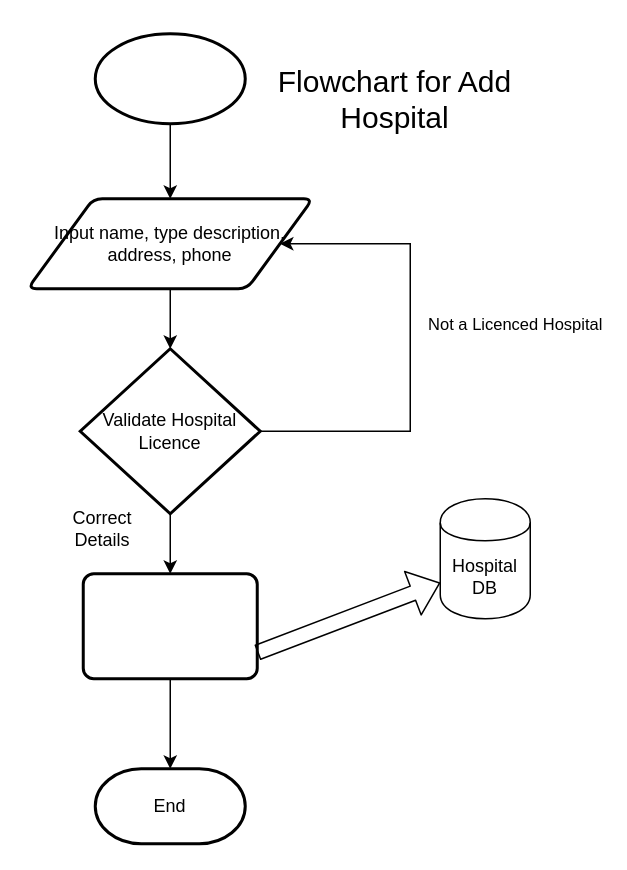
The diagram is 627 pixels wide and 870 high, and some of its shapes have lost their labels. The shapes that lost their labels are listed below. From the top down, each one's centre as x and y in pixels, then its label:
At point 169,78: "Begin".
At point 169,626: "Add Hospital and store details in database".
